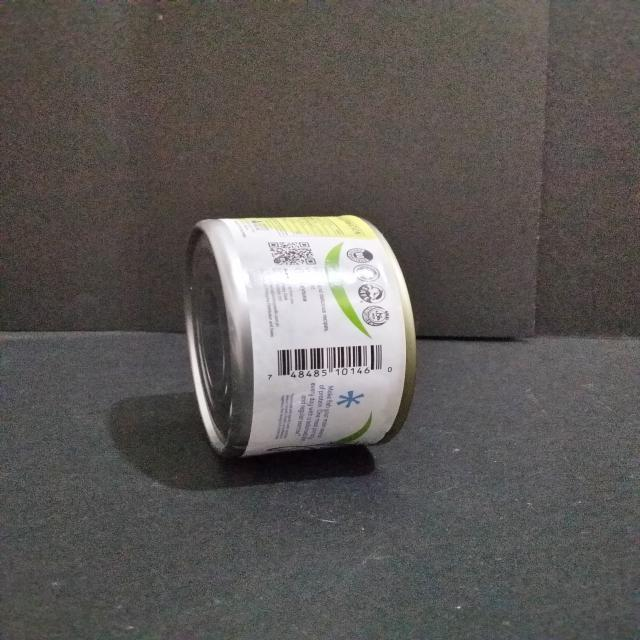metal-can: (180, 212, 413, 463)
